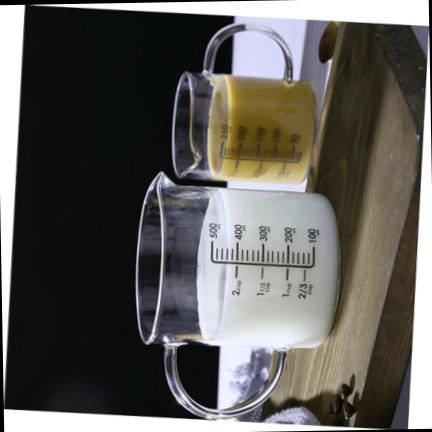container: (136, 172, 339, 354), (172, 68, 316, 181)
fluid: (206, 186, 335, 347), (216, 70, 314, 177)
fluid-surface: (194, 186, 235, 339), (207, 72, 231, 175)
